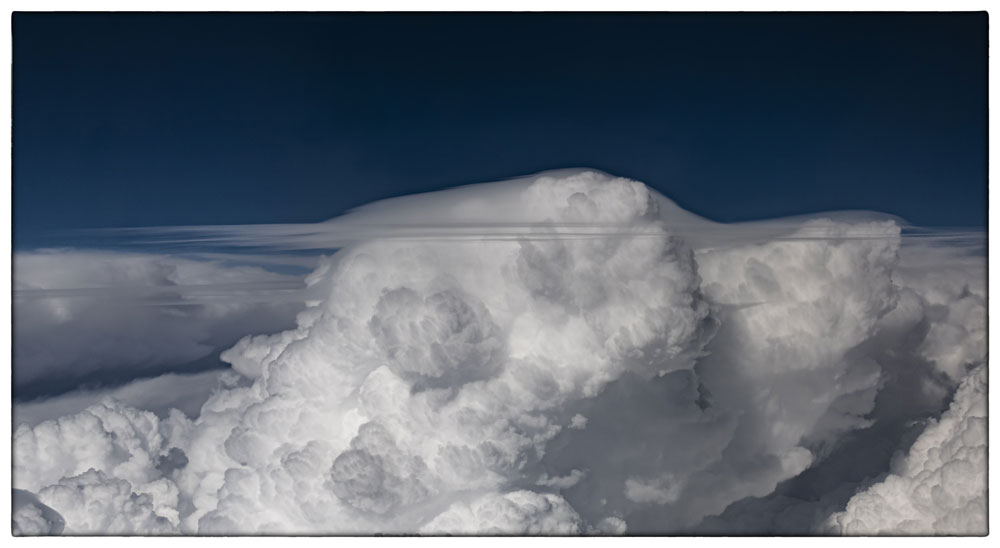Cumulus: (187, 131, 915, 538)
